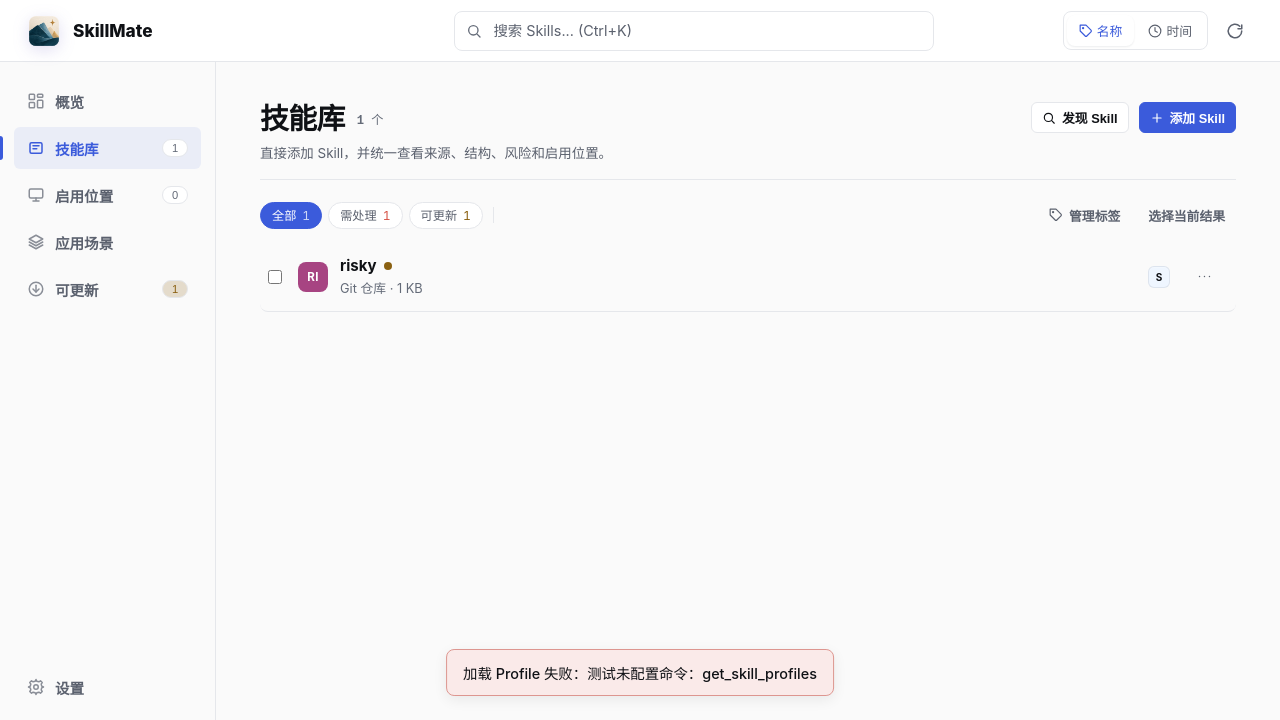
Test: 技能库与父页面协作 › 外部来源有更新时保留说明但不显示受管更新按钮
What coordinates should you click on to do the following:
click the text "risky"
I would click on:
 (748, 277)
Its box is [260,243,1236,312].
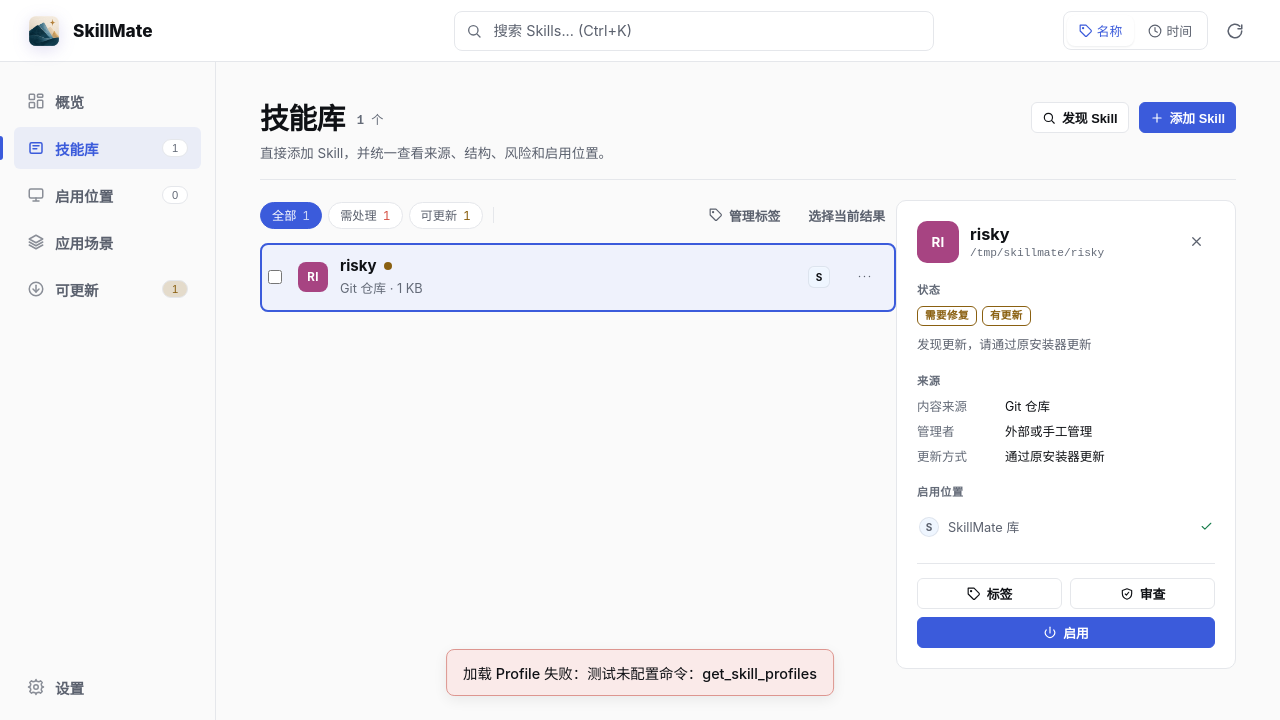
Now the text "发现更新，请通过原安装器更新" is shown, box [917,337,1092,352]
